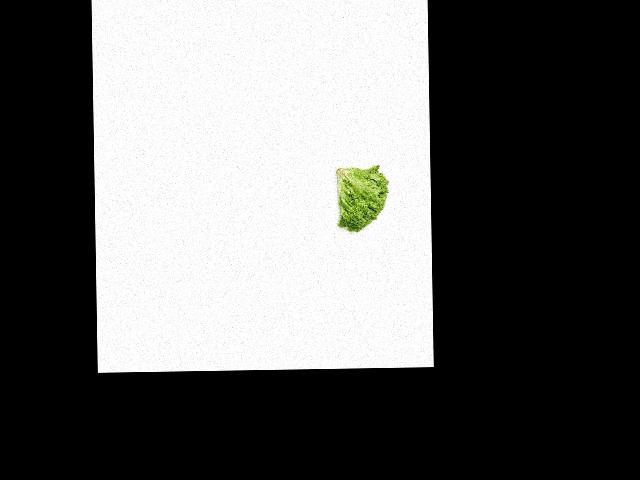lettuce: (330, 162, 393, 236)
